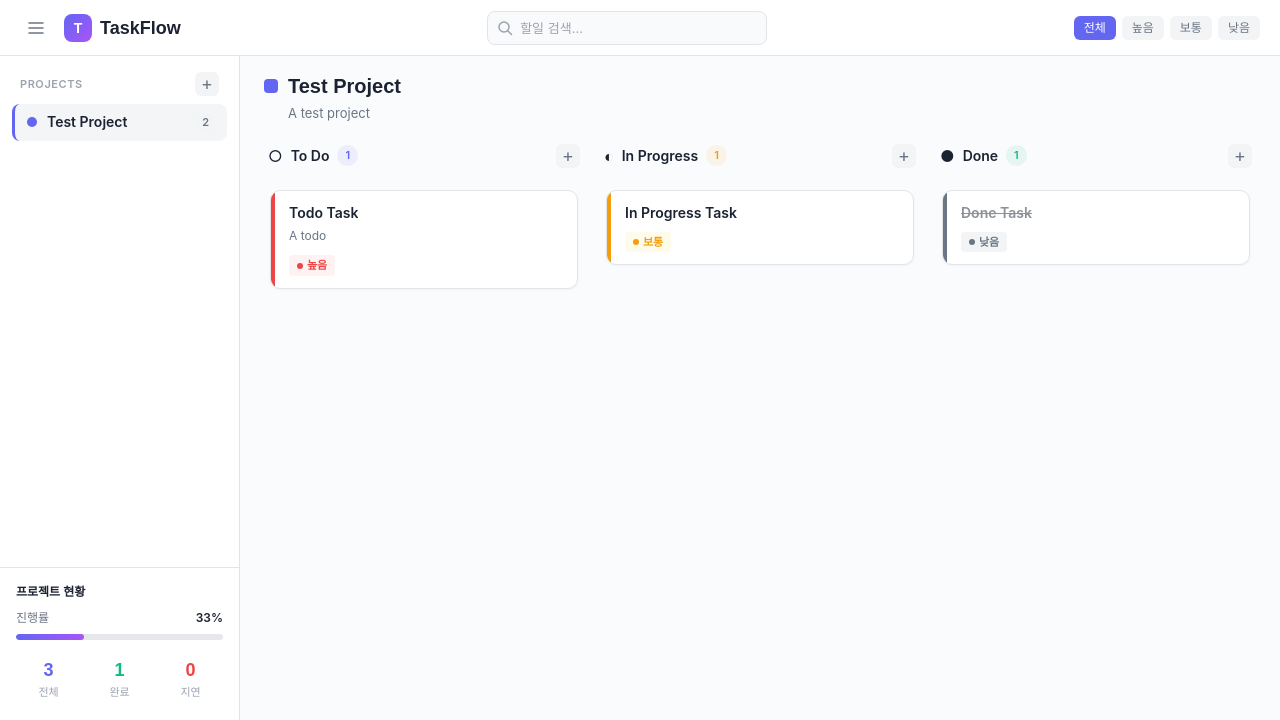
Home Page › Add Task Modal › should open add modal when + button in column is clicked
The width and height of the screenshot is (1280, 720).
Expected: the heading "Todo Task" is shown, [289,204,358,220]
The first + is sidebar, the column + buttons follow
Click the button "+" in the row of "To Do". click: {"x": 568, "y": 156}
box: [556,144,580,168]
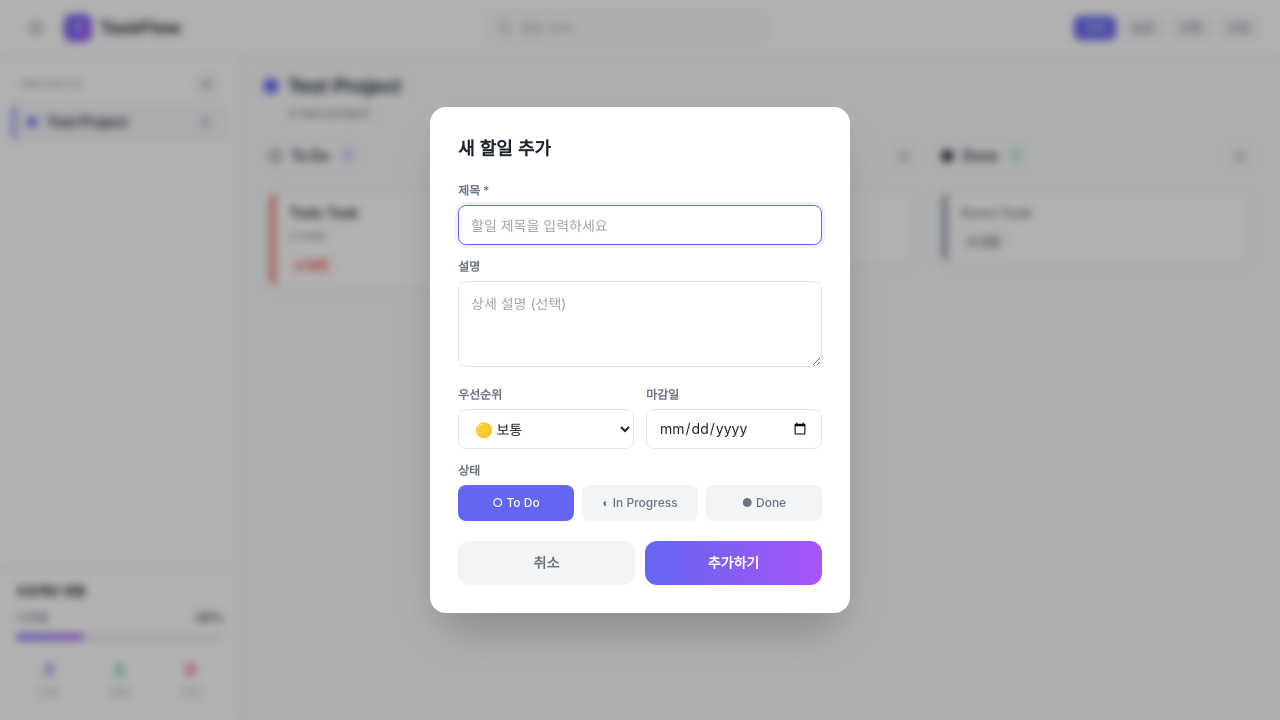
Expected: the heading "새 할일 추가" is shown, [458,135,551,163]
